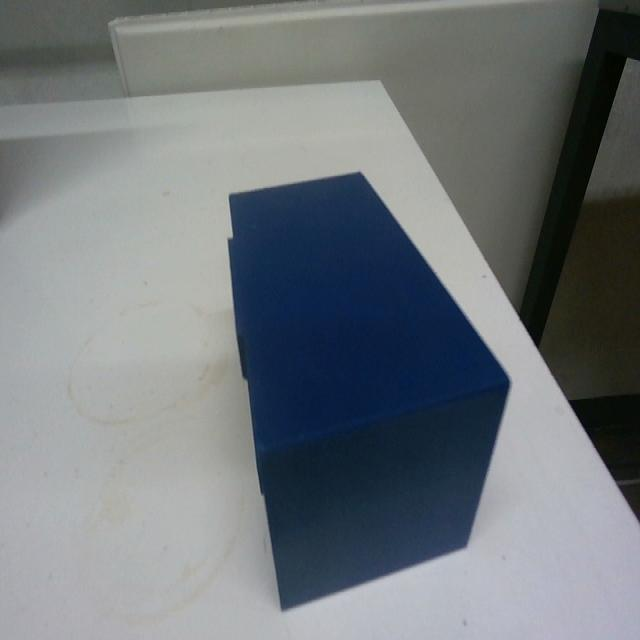Blue Cuboid: (224, 167, 512, 609)
